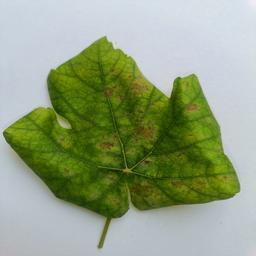Powdery-Mildew: (172, 132, 230, 195), (126, 107, 163, 151), (177, 77, 205, 117), (115, 67, 151, 97), (94, 131, 122, 166), (128, 181, 162, 209), (14, 128, 31, 144), (54, 132, 71, 148), (105, 192, 121, 209), (98, 85, 114, 101)
